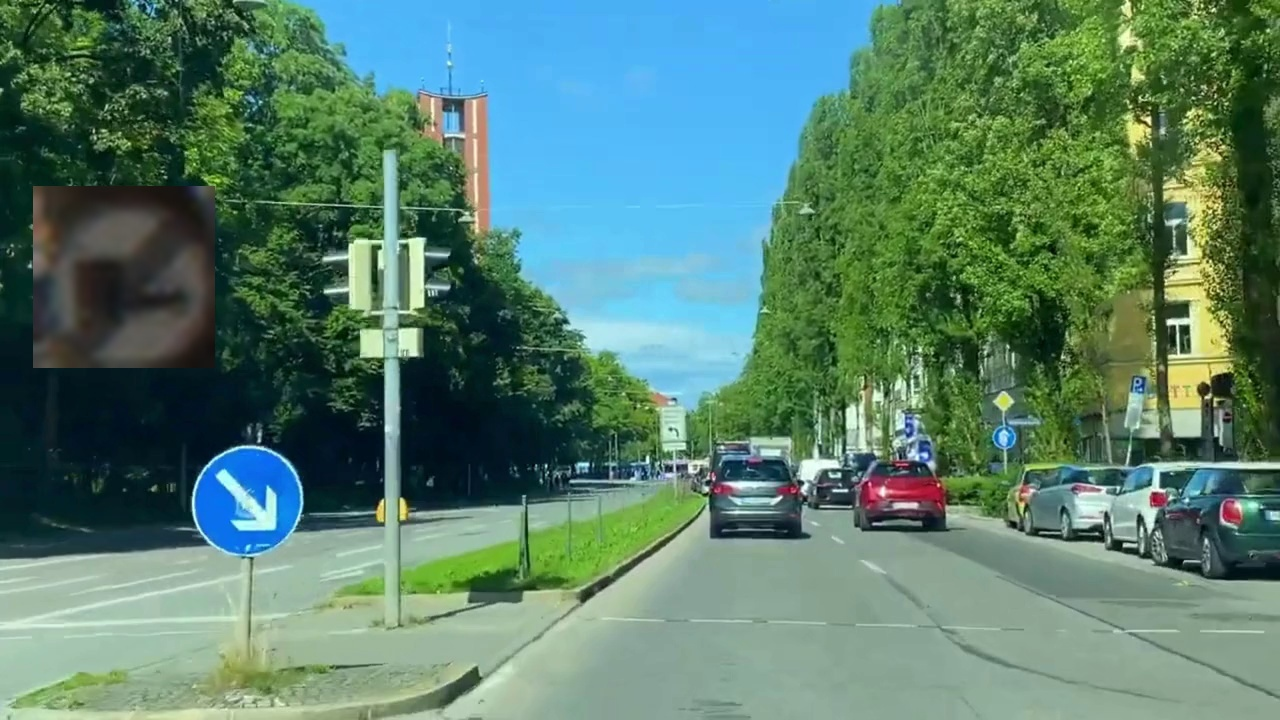End no pass >3.5t: (33, 186, 215, 368)
